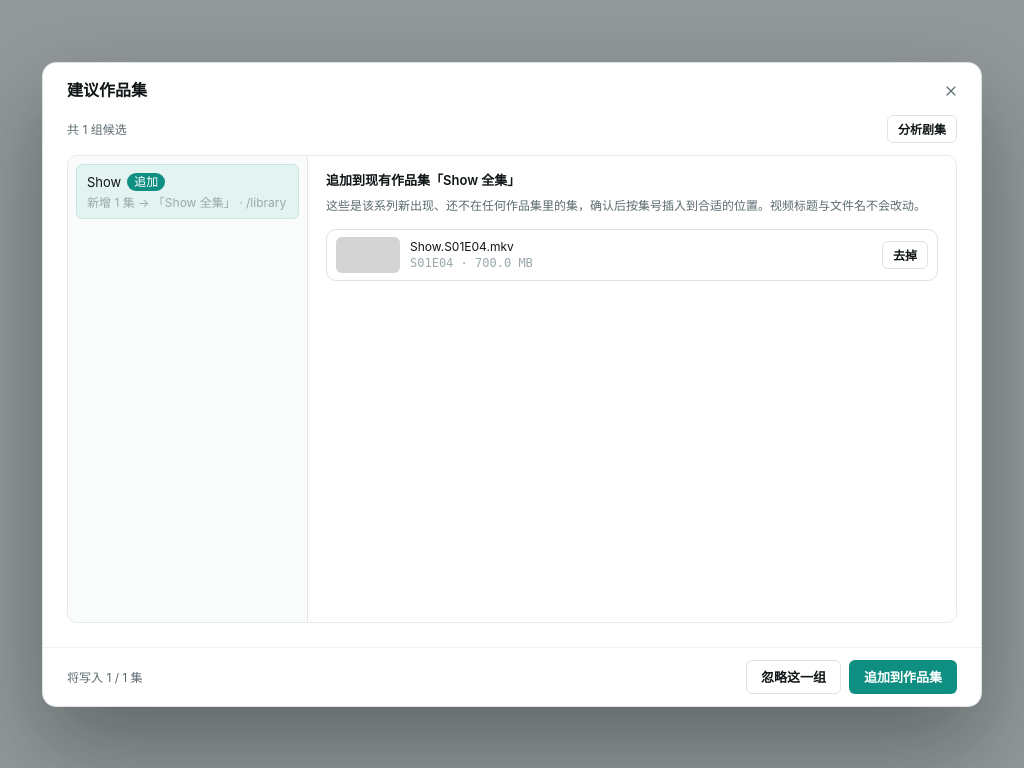
Test: 建议作品集 META-15 追加候选 › META-15 shows an append candidate and appends even a single new episode
This screenshot has width=1024, height=768.
Expected: the text "追加" is shown, [127, 172, 165, 190]
Expected: the button with test id "collection-suggestion-item" shows "新增 1 集 → 「Show 全集」", [76, 164, 299, 218]
Click the button with test id "collection-suggestion-confirm" at (903, 676), box [849, 660, 957, 694]
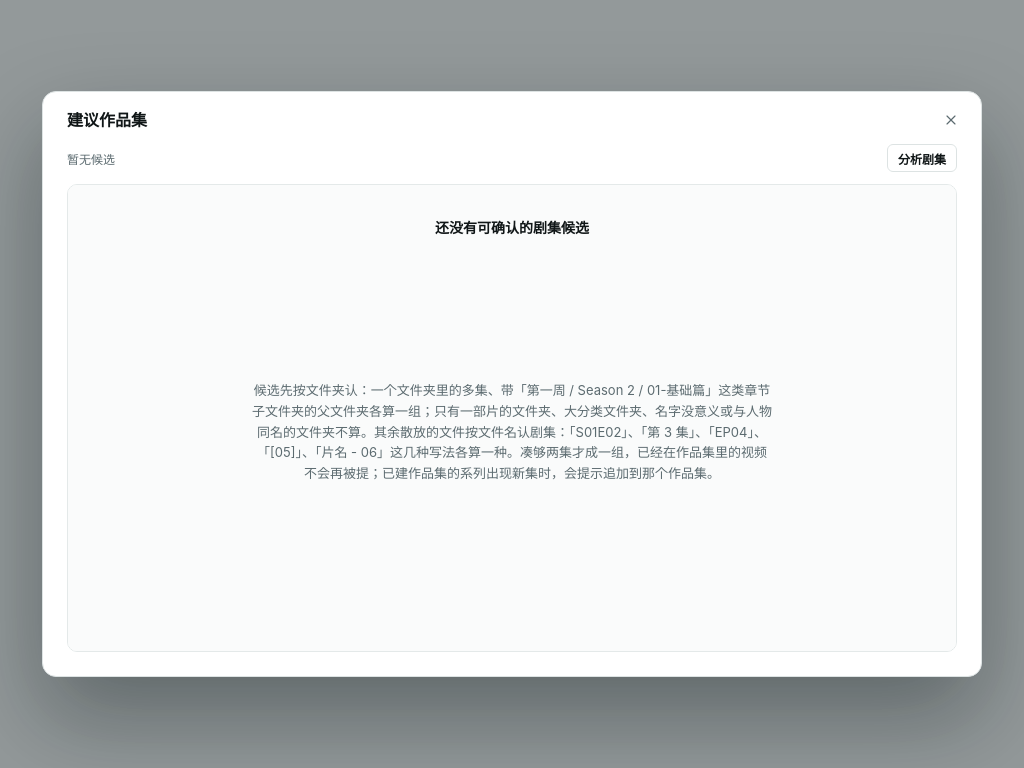
Now no buttons with test id "collection-suggestion-item" are shown
